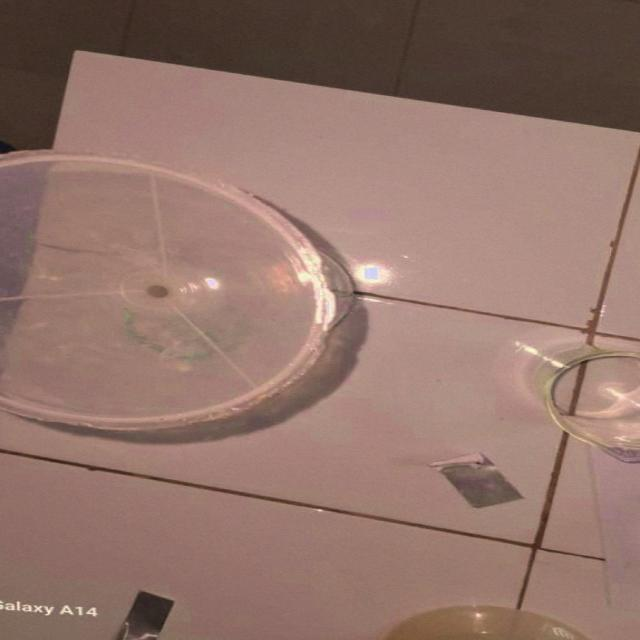Funnel: (0, 138, 342, 458)
